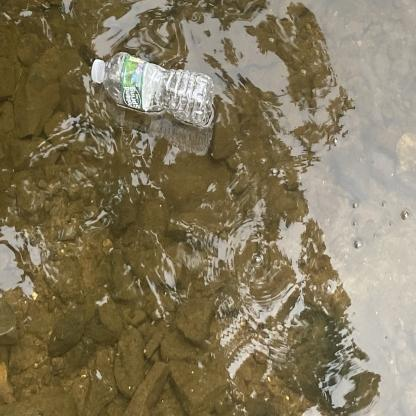trash: (85, 48, 217, 136)
